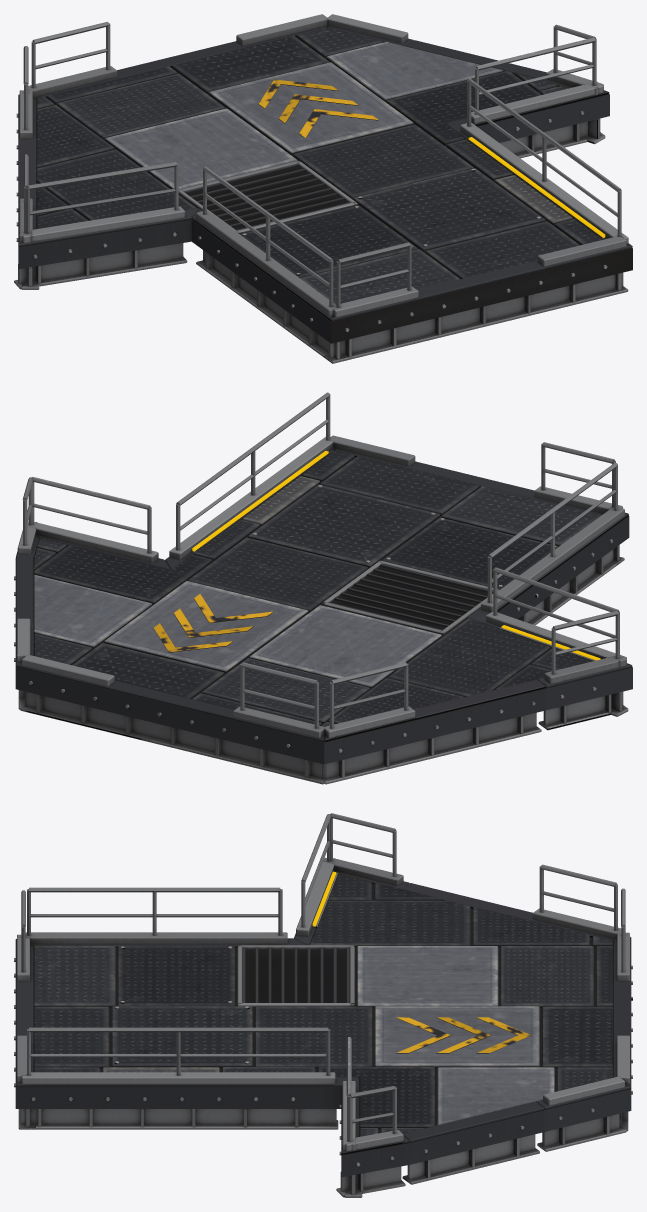
The model's file is nodexeus-set-deck-m8.glb.
3 views of the same model, one above another, from view 1: azimuth 30°, elevation 25°; view 2: azimuth 150°, elevation 25°; view 3: azimuth 270°, elevation 25° (orthographic).
Visible parts, largest first — view 1: set-deck-m8; view 2: set-deck-m8; view 3: set-deck-m8.
Boxes of the visible parts, x1,y1,x2,y2 form: set-deck-m8: (14,14,632,363); set-deck-m8: (14,392,632,784); set-deck-m8: (14,813,632,1197).
Bounding box in the file's own units: 11.54 × 1.84 × 10.35.
1 material, 1 textured.
